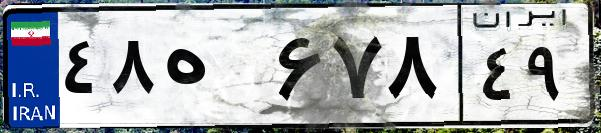4: (57, 26, 110, 100), (475, 38, 525, 113)
6: (270, 28, 330, 110)
7: (330, 28, 385, 110)
8: (385, 28, 445, 110), (110, 28, 158, 98)
9: (525, 38, 570, 115)
ه: (158, 20, 270, 120)
